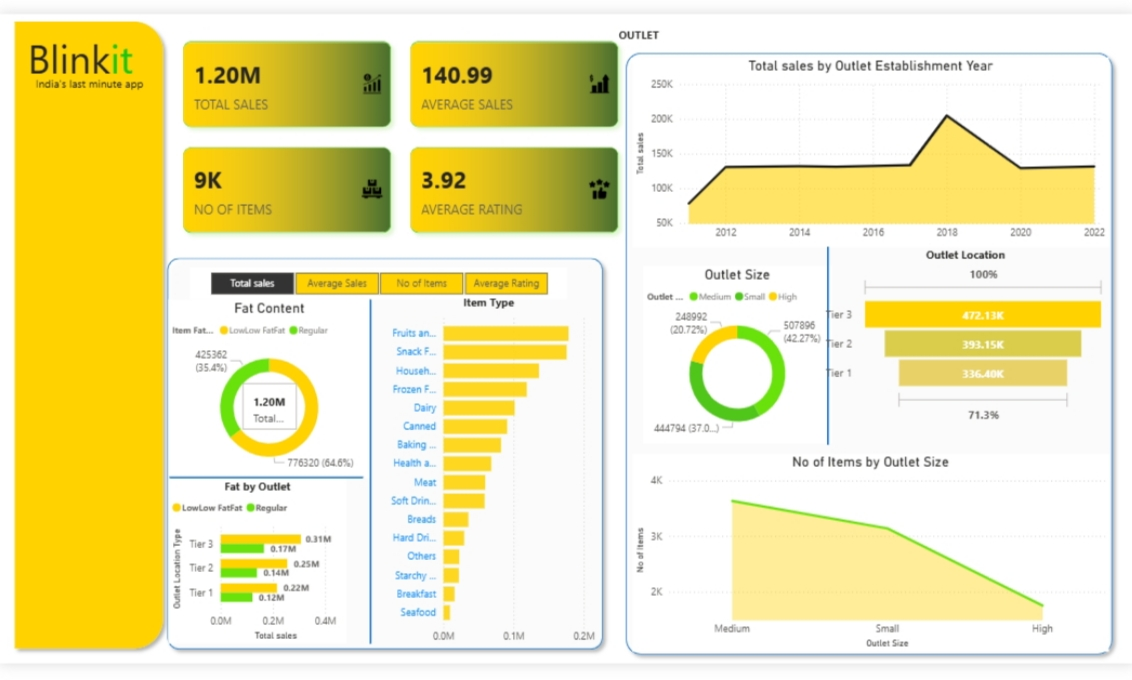

The dashboard page shown, as its layout file describes it:
{"tool":"powerbi","page":{"name":"Page 1","canvas":[1400,800],"ordinal":0},"visuals":[{"type":"shape","box":[9.4,0,201.1,790.9],"z":0},{"type":"textbox","box":[25.5,16.5,150.1,76.5],"z":1000},{"type":"textbox","box":[25.5,72,172.6,42],"z":2000},{"type":"cardVisual","fields":{"Data":["BlinkIT Grocery Data.Total sales","BlinkIT Grocery Data.Average Sales","BlinkIT Grocery Data.No of Items","BlinkIT Grocery Data.Average"]},"box":[210.1,16.5,570,270],"z":3000},{"type":"shape","box":[198.6,291.4,554.3,500],"z":4000},{"type":"donutChart","title":"Fat Content","fields":{"Y":["BlinkIT Grocery Data.Total sales"],"Category":["BlinkIT Grocery Data.Item Fat Content"]},"box":[209.1,351.2,249.3,219.8],"z":5000},{"type":"slicer","fields":{"Values":["Metrics.Metrics"]},"box":[234.6,311,465.1,40.2],"z":6000},{"type":"cardVisual","fields":{"Data":["BlinkIT Grocery Data.Total sales"]},"box":[294.9,450.4,77.7,67],"z":7000},{"type":"clusteredBarChart","title":"Fat by Outlet ","fields":{"Y":["BlinkIT Grocery Data.Total sales"],"Category":["BlinkIT Grocery Data.Outlet Location Type"],"Series":["BlinkIT Grocery Data.Item Fat Content"]},"box":[208.6,571.4,220,204.3],"z":8000},{"type":"shape","box":[210.5,565.7,238.6,12.1],"z":9000},{"type":"shape","box":[448.6,351.4,18.6,424.3],"z":10000},{"type":"barChart","title":"Item Type","fields":{"Y":["BlinkIT Grocery Data.Total sales"],"Category":["BlinkIT Grocery Data.Item Type"]},"box":[467.1,345.7,272.9,440],"z":11000},{"type":"shape","title":"OUTLET","box":[762.9,17.1,617.1,781.4],"z":12000},{"type":"lineChart","fields":{"Y":["BlinkIT Grocery Data.Total sales"],"Category":["BlinkIT Grocery Data.Outlet Establishment Year"]},"box":[780,52.9,587.1,234.3],"z":13000},{"type":"donutChart","title":"Outlet Size","fields":{"Y":["BlinkIT Grocery Data.Total sales"],"Category":["BlinkIT Grocery Data.Outlet Size"]},"box":[794,310.7,232.6,219.1],"z":14000},{"type":"shape","box":[1014.8,286.9,12.1,244],"z":15000},{"type":"funnel","title":"Outlet Location","fields":{"Y":["Sum(BlinkIT Grocery Data.Sales)"],"Category":["BlinkIT Grocery Data.Outlet Location Type"]},"box":[1012.9,287.1,354.3,221.4],"z":16000},{"type":"lineChart","fields":{"Category":["BlinkIT Grocery Data.Outlet Size"],"Y":["BlinkIT Grocery Data.No of Items"]},"box":[780,541.4,587.1,244.3],"z":16001}]}

Visuals, with their boxes in screenshot pixels (x1, y1, x2, y2):
shape: (x1=22, y1=24, x2=183, y2=654)
textbox: (x1=35, y1=37, x2=155, y2=98)
textbox: (x1=35, y1=81, x2=173, y2=114)
cardVisual - BlinkIT Grocery Data.Total sales x BlinkIT Grocery Data.Average Sales: (x1=182, y1=37, x2=637, y2=252)
shape: (x1=173, y1=256, x2=615, y2=655)
"Fat Content" donutChart: (x1=181, y1=304, x2=380, y2=479)
slicer - Metrics.Metrics: (x1=202, y1=272, x2=573, y2=304)
cardVisual - BlinkIT Grocery Data.Total sales: (x1=250, y1=383, x2=312, y2=436)
"Fat by Outlet " clusteredBarChart: (x1=181, y1=479, x2=357, y2=642)
shape: (x1=183, y1=475, x2=373, y2=484)
shape: (x1=372, y1=304, x2=387, y2=642)
"Item Type" barChart: (x1=387, y1=299, x2=605, y2=650)
"OUTLET" shape: (x1=623, y1=37, x2=1115, y2=660)
lineChart - BlinkIT Grocery Data.Total sales x BlinkIT Grocery Data.Outlet Establishment Year: (x1=637, y1=66, x2=1105, y2=253)
"Outlet Size" donutChart: (x1=648, y1=271, x2=833, y2=446)
shape: (x1=824, y1=252, x2=834, y2=447)
"Outlet Location" funnel: (x1=822, y1=253, x2=1105, y2=429)
lineChart - BlinkIT Grocery Data.Outlet Size x BlinkIT Grocery Data.No of Items: (x1=637, y1=455, x2=1105, y2=650)
